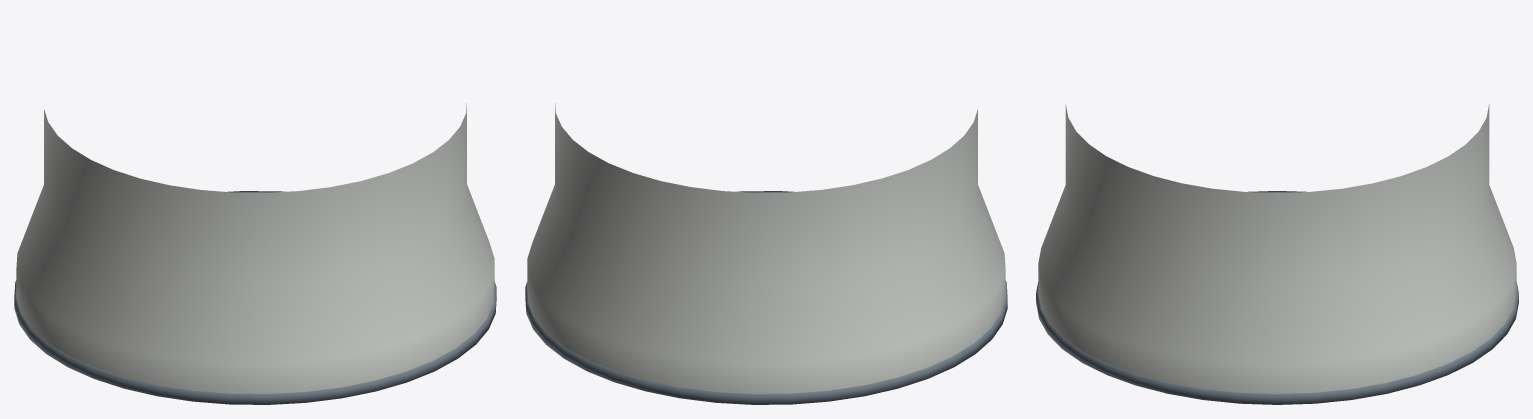
File: titan_srb_l.aft_skirt.glb
3 views of the same model, side by side, from view 1: azimuth 30°, elevation 25°; view 2: azimuth 150°, elevation 25°; view 3: azimuth 270°, elevation 25° (orthographic).
Visible parts, largest first — view 1: titan_srb_l.aft_skirt.mesh_Pale_thermal_blanket, titan_srb_l.aft_skirt.mesh_Machined_steel; view 2: titan_srb_l.aft_skirt.mesh_Pale_thermal_blanket, titan_srb_l.aft_skirt.mesh_Machined_steel; view 3: titan_srb_l.aft_skirt.mesh_Pale_thermal_blanket, titan_srb_l.aft_skirt.mesh_Machined_steel.
Part boxes in pixels (left/top/right/bottom): titan_srb_l.aft_skirt.mesh_Pale_thermal_blanket: left=16, top=103, right=494, bottom=393; titan_srb_l.aft_skirt.mesh_Machined_steel: left=14, top=191, right=496, bottom=404; titan_srb_l.aft_skirt.mesh_Pale_thermal_blanket: left=527, top=103, right=1005, bottom=393; titan_srb_l.aft_skirt.mesh_Machined_steel: left=525, top=191, right=1007, bottom=404; titan_srb_l.aft_skirt.mesh_Pale_thermal_blanket: left=1038, top=104, right=1516, bottom=393; titan_srb_l.aft_skirt.mesh_Machined_steel: left=1036, top=191, right=1518, bottom=404.
Bounding box in the file's own units: 3.47 × 1.58 × 3.47.
